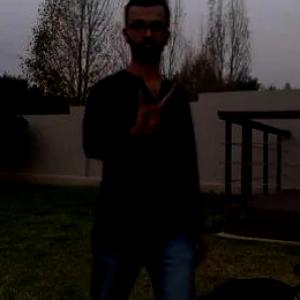takeoff-hand: (128, 69, 184, 140)
